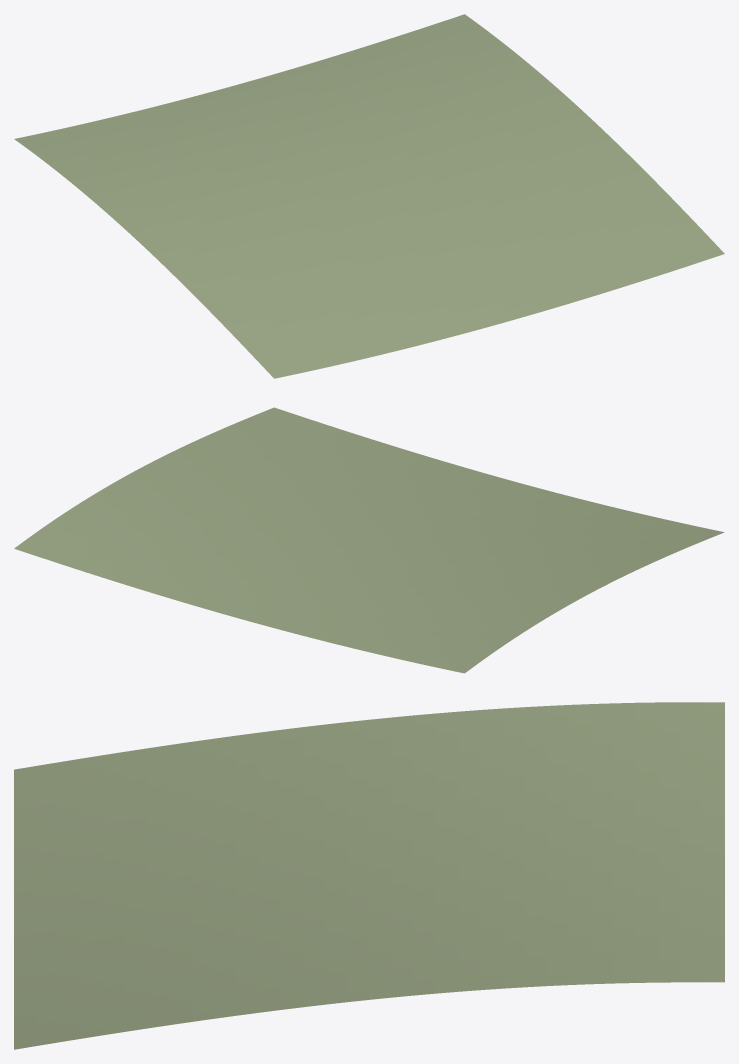
The model's file is valley-13-15.glb.
3 views of the same model, one above another, from view 1: azimuth 30°, elevation 25°; view 2: azimuth 150°, elevation 25°; view 3: azimuth 270°, elevation 25° (orthographic). The views are drawn at different scales.
Visible parts, largest first — view 1: valley-13-15; view 2: valley-13-15; view 3: valley-13-15.
Part boxes in pixels (x1=…): valley-13-15: x1=14, y1=14, x2=724, y2=378; valley-13-15: x1=14, y1=407, x2=724, y2=673; valley-13-15: x1=14, y1=702, x2=724, y2=1049.
Size of the model in its own units: 256 by 36.02 by 256.
